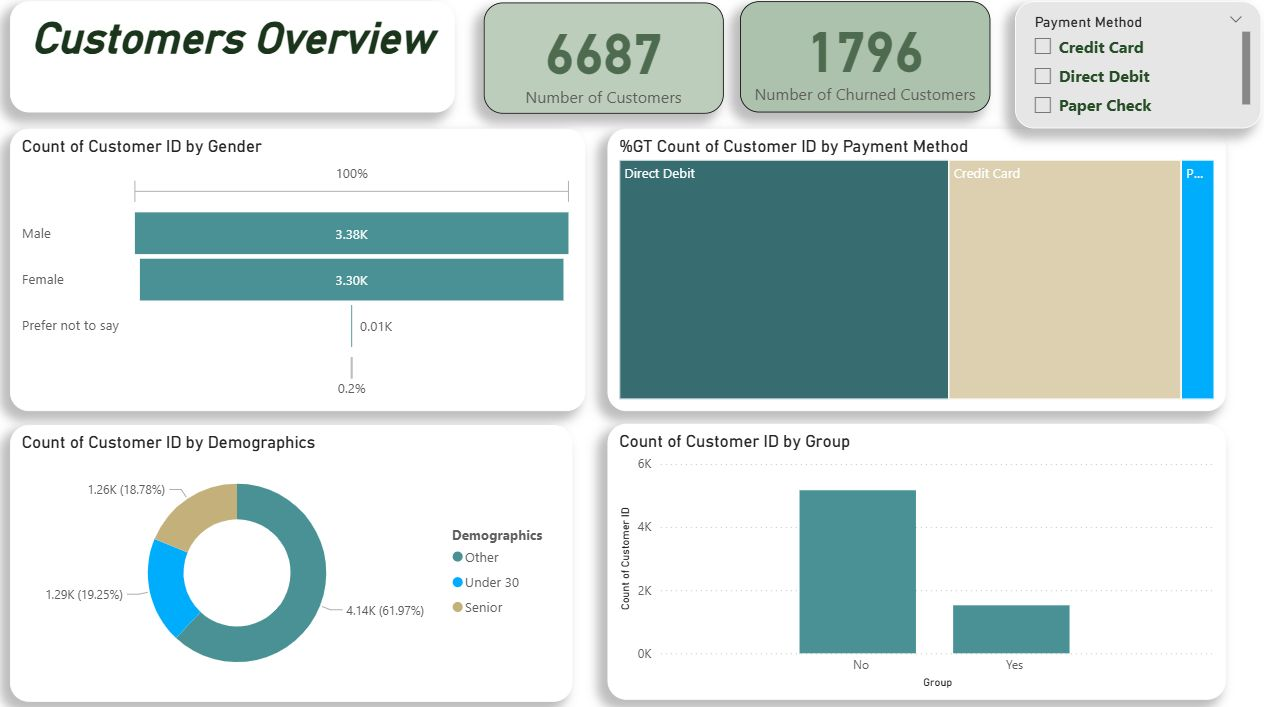

The page's visual inventory and layout, read from the dashboard file:
{"tool":"powerbi","page":{"name":"Dashboard1","canvas":[1280,720],"ordinal":0},"visuals":[{"type":"card","fields":{"Values":["_Calculations.Number of Customers"]},"box":[489.1,7.3,239.7,111.3],"z":0},{"type":"textbox","box":[14.7,6.1,445.1,111.3],"z":1000},{"type":"card","fields":{"Values":["_Calculations.Number of Churned Customers"]},"box":[744.7,6.1,250.7,111.3],"z":2000},{"type":"funnel","fields":{"Category":["Databel - Data.Gender"],"Y":["CountNonNull(Databel - Data.Customer ID)"]},"box":[14.9,133.8,575.5,282.5],"z":3000},{"type":"donutChart","fields":{"Category":["Databel - Data.Demographics"],"Y":["CountNonNull(Databel - Data.Customer ID)"]},"box":[14.9,429.7,562.1,276.6],"z":4000},{"type":"treemap","fields":{"Group":["Databel - Data.Payment Method"],"Values":["CountNonNull(Databel - Data.Customer ID)"]},"box":[612.6,133.3,618.8,282.5],"z":5000},{"type":"clusteredColumnChart","fields":{"Y":["CountNonNull(Databel - Data.Customer ID)"],"Category":["Databel - Data.Group"]},"box":[612.6,429.2,618.8,276.4],"z":6000},{"type":"slicer","fields":{"Values":["Databel - Data.Payment Method"]},"box":[1019.6,6.4,246.6,127.1],"z":7000}]}

Visuals, with their boxes in screenshot pixels (x1, y1, x2, y2), scaled from the page's 1280x720 canvas onto the 1264x707 screenshot:
card - _Calculations.Number of Customers: {"left": 483, "top": 7, "right": 720, "bottom": 116}
textbox: {"left": 15, "top": 6, "right": 454, "bottom": 115}
card - _Calculations.Number of Churned Customers: {"left": 735, "top": 6, "right": 983, "bottom": 115}
funnel - Databel - Data.Gender x CountNonNull(Databel - Data.Customer ID): {"left": 15, "top": 131, "right": 583, "bottom": 409}
donutChart - Databel - Data.Demographics x CountNonNull(Databel - Data.Customer ID): {"left": 15, "top": 422, "right": 570, "bottom": 694}
treemap - Databel - Data.Payment Method x CountNonNull(Databel - Data.Customer ID): {"left": 605, "top": 131, "right": 1216, "bottom": 408}
clusteredColumnChart - CountNonNull(Databel - Data.Customer ID) x Databel - Data.Group: {"left": 605, "top": 421, "right": 1216, "bottom": 693}
slicer - Databel - Data.Payment Method: {"left": 1007, "top": 6, "right": 1250, "bottom": 131}
